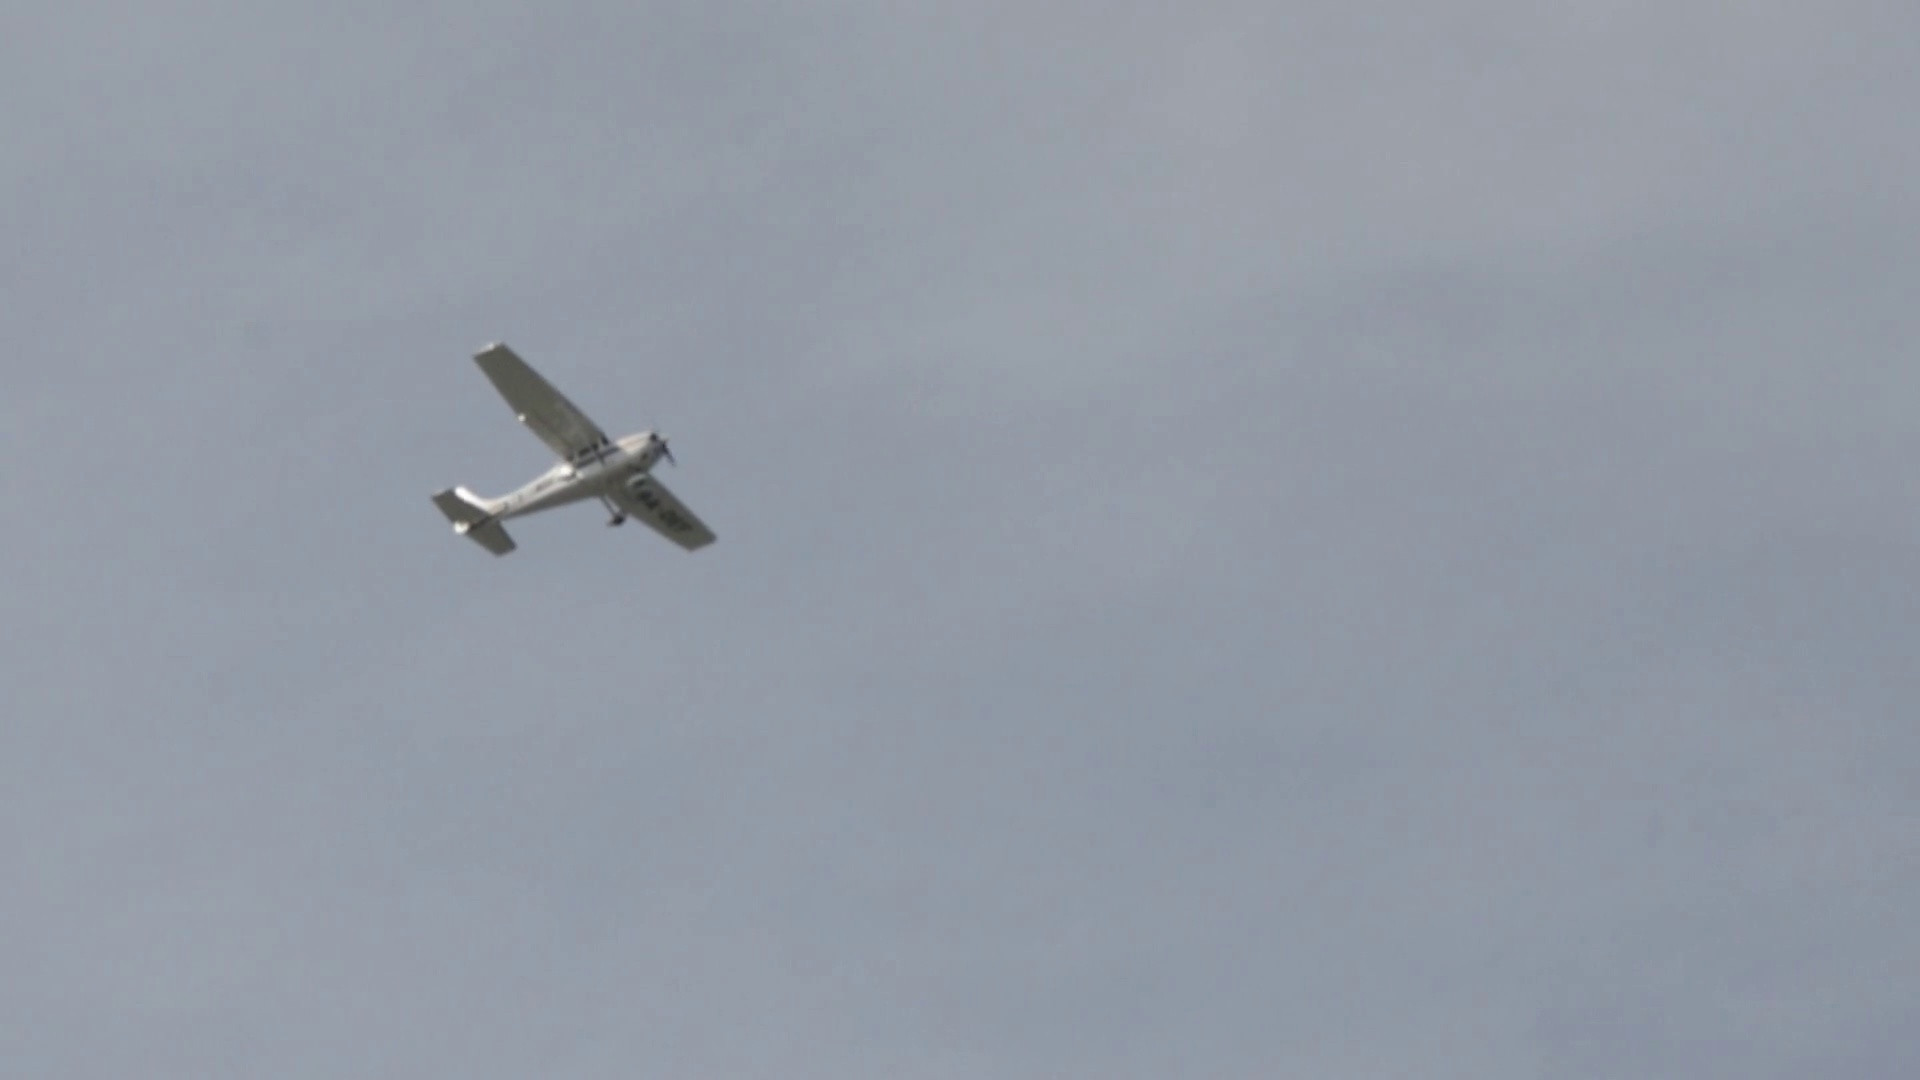plane: (429, 343, 717, 560)
